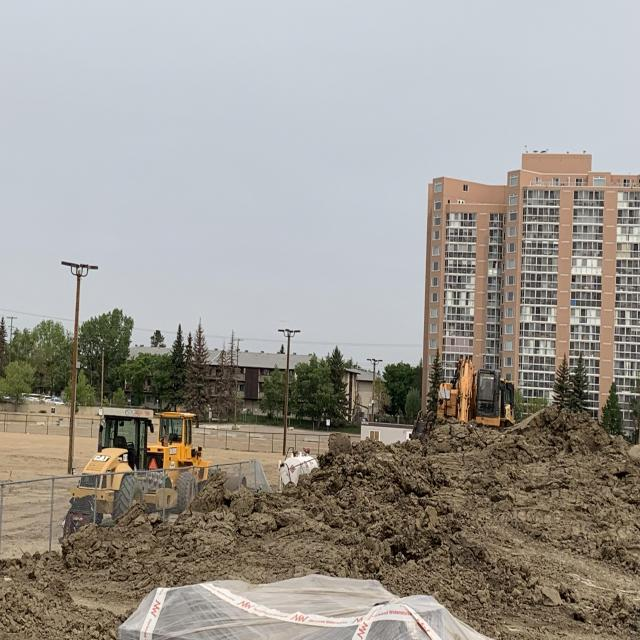Excavator: (424, 348, 514, 432)
Loader: (149, 410, 212, 501)
Roller: (55, 401, 176, 545)
